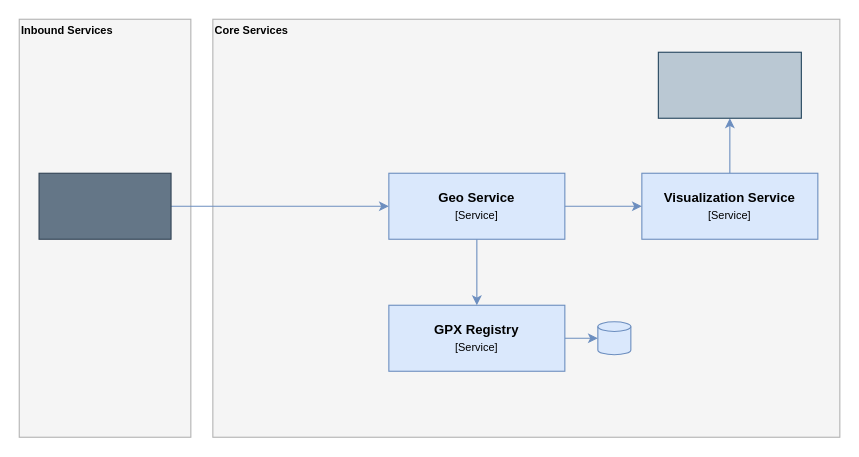
Image size: 859x457. Some labels were removed from this diagram. Here are the shapes that lost their labels. From the top down, the box of each, then its label:
(657, 51, 801, 118): Maps API
(38, 172, 171, 239): API Gate
